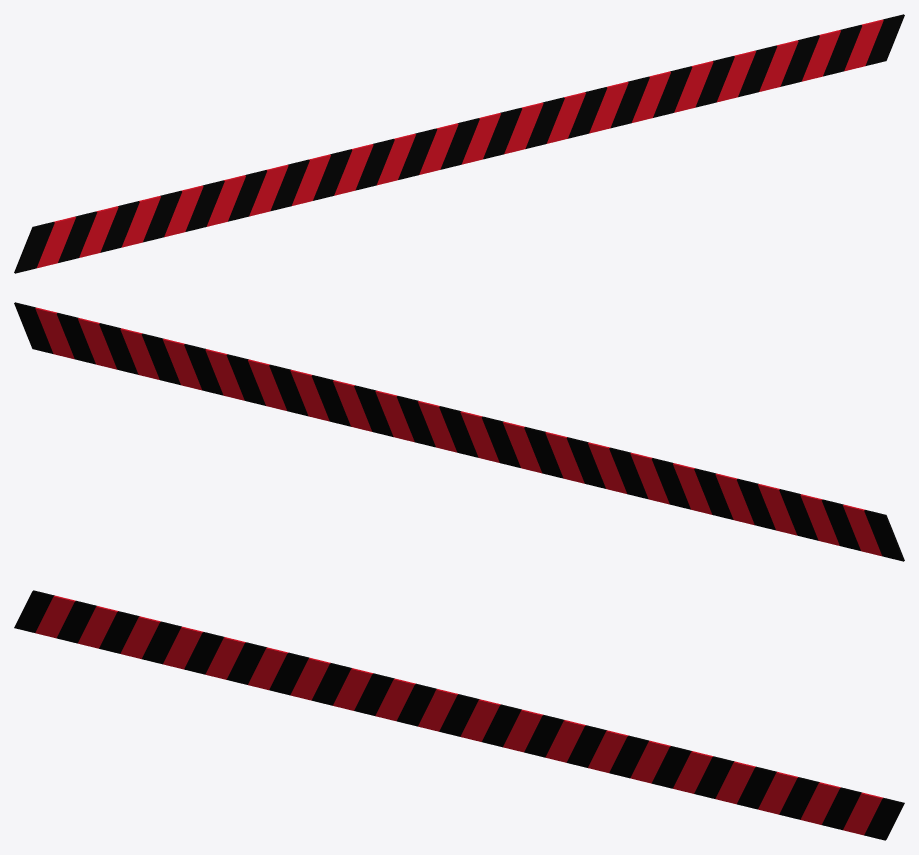
Rendered from stopBlockTrial.fbx.
3 views of the same model, one above another, from view 1: azimuth 30°, elevation 25°; view 2: azimuth 150°, elevation 25°; view 3: azimuth 330°, elevation 25° (orthographic).
Parts seen in each view (by area): view 1: Plane.100, Plane.135, Plane.139, Plane.110, Plane.104, Plane.103, Plane.099, Plane.145, Plane.106, Plane.138, Plane.101, Plane.137 (+20 smaller); view 2: Plane.100, Plane.135, Plane.139, Plane.110, Plane.104, Plane.103, Plane.099, Plane.145, Plane.106, Plane.138, Plane.101, Plane.137 (+20 smaller); view 3: Plane.100, Plane.135, Plane.139, Plane.110, Plane.104, Plane.103, Plane.145, Plane.106, Plane.099, Plane.138, Plane.101, Plane.137 (+21 smaller).
Part boxes in pixels (x1,y1,x2,y2): Plane.100: (15, 201, 139, 273); Plane.135: (589, 76, 649, 133); Plane.139: (682, 50, 755, 92); Plane.110: (292, 149, 352, 205); Plane.104: (164, 175, 245, 236); Plane.103: (135, 190, 182, 236); Plane.099: (14, 19, 897, 273); Plane.145: (809, 25, 862, 62); Plane.106: (206, 171, 266, 226); Plane.138: (674, 83, 742, 112); Plane.101: (58, 214, 134, 262); Plane.137: (641, 66, 692, 99); Plane.100: (779, 489, 903, 561); Plane.135: (269, 364, 329, 421); Plane.139: (163, 338, 236, 380); Plane.110: (566, 437, 626, 493); Plane.104: (673, 463, 754, 524); Plane.103: (736, 478, 783, 524); Plane.099: (21, 307, 904, 561); Plane.145: (56, 313, 109, 350); Plane.106: (652, 459, 712, 514); Plane.138: (176, 371, 244, 400); Plane.101: (784, 502, 860, 550); Plane.137: (226, 354, 277, 387); Plane.100: (14, 590, 139, 638); Plane.135: (588, 730, 649, 778); Plane.139: (681, 751, 755, 792); Plane.110: (290, 658, 351, 700); Plane.104: (163, 626, 245, 663); Plane.103: (134, 616, 181, 663); Plane.145: (808, 782, 861, 814); Plane.106: (205, 648, 265, 684); Plane.099: (401, 692, 897, 840); Plane.138: (673, 773, 741, 804); Plane.101: (57, 627, 133, 653); Plane.137: (640, 740, 691, 772).
Bounding box in the file's own units: 40.85 × 1.81 × 0.1.
